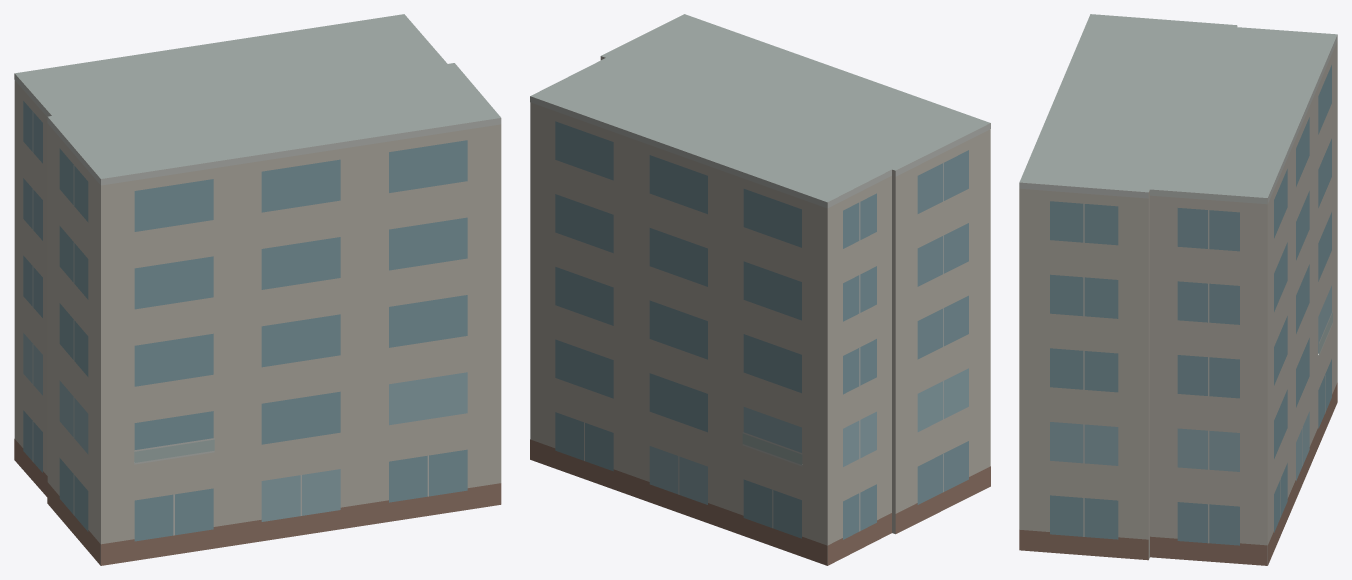
File: survey-upis-32876210.glb
The picture shows the model from 3 angles, left to right: view 1: azimuth 30°, elevation 25°; view 2: azimuth 150°, elevation 25°; view 3: azimuth 270°, elevation 25°; orthographic projection. The views are drawn at different scales.
Parts seen in each view (by area): view 1: survey-upis-32876210.tmp; view 2: survey-upis-32876210.tmp; view 3: survey-upis-32876210.tmp.
Boxes of the visible parts, x1=… form: survey-upis-32876210.tmp: x1=14, y1=14, x2=501, y2=565; survey-upis-32876210.tmp: x1=530, y1=14, x2=990, y2=565; survey-upis-32876210.tmp: x1=1019, y1=14, x2=1337, y2=565.
Size of the model in its own units: 15.63 by 14.55 by 11.42.
